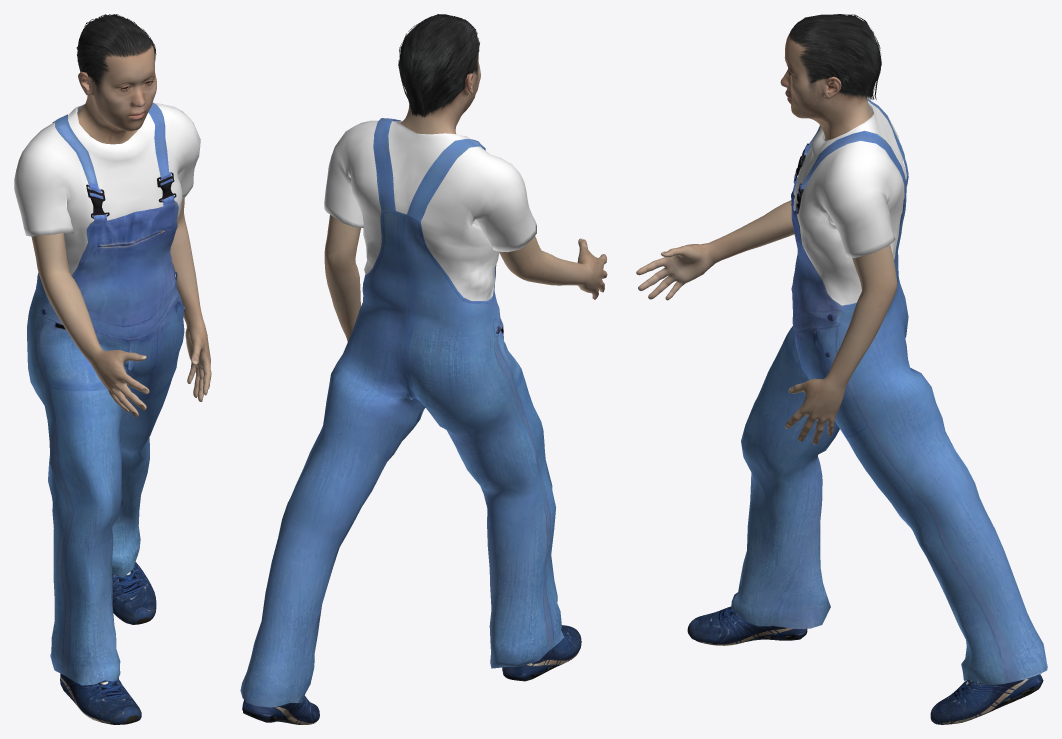
The model's file is uomo-04.glb.
The picture shows the model from 3 angles, left to right: view 1: azimuth 30°, elevation 25°; view 2: azimuth 150°, elevation 25°; view 3: azimuth 270°, elevation 25°; orthographic projection. The views are drawn at different scales.
Visible parts, largest first — view 1: Human.male_worksuit01, Human, Human.shoes06, Human.short04; view 2: Human.male_worksuit01, Human, Human.short04, Human.shoes06; view 3: Human.male_worksuit01, Human, Human.short04, Human.shoes06.
Part boxes in pixels (x1=…): Human.male_worksuit01: x1=14, y1=102, x2=200, y2=685; Human: x1=31, y1=44, x2=211, y2=417; Human.shoes06: x1=60, y1=562, x2=156, y2=724; Human.short04: x1=76, y1=14, x2=156, y2=95; Human.male_worksuit01: x1=240, y1=118, x2=563, y2=707; Human: x1=324, y1=53, x2=607, y2=341; Human.short04: x1=398, y1=14, x2=479, y2=117; Human.shoes06: x1=242, y1=625, x2=581, y2=724; Human.male_worksuit01: x1=731, y1=99, x2=1047, y2=685; Human: x1=636, y1=33, x2=897, y2=444; Human.short04: x1=789, y1=14, x2=881, y2=100; Human.shoes06: x1=687, y1=606, x2=1043, y2=724.
Size of the model in its own units: 0.5003 by 1.64 by 0.9171.
Materials: 12 (12 with a texture image).
